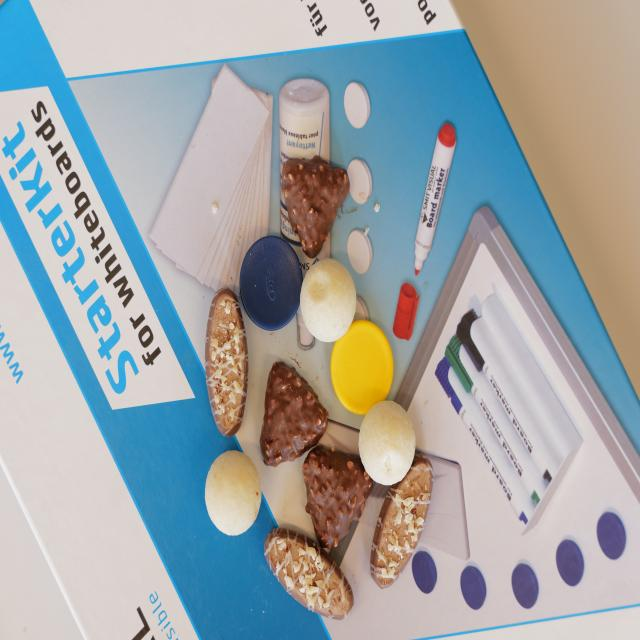Amandina: (265, 522, 357, 620), (370, 452, 434, 586), (206, 288, 250, 437)
Comtesse: (359, 398, 416, 484), (300, 258, 358, 342), (205, 450, 261, 534)
Triangolo: (302, 444, 373, 552), (260, 361, 328, 466), (282, 156, 350, 259)
